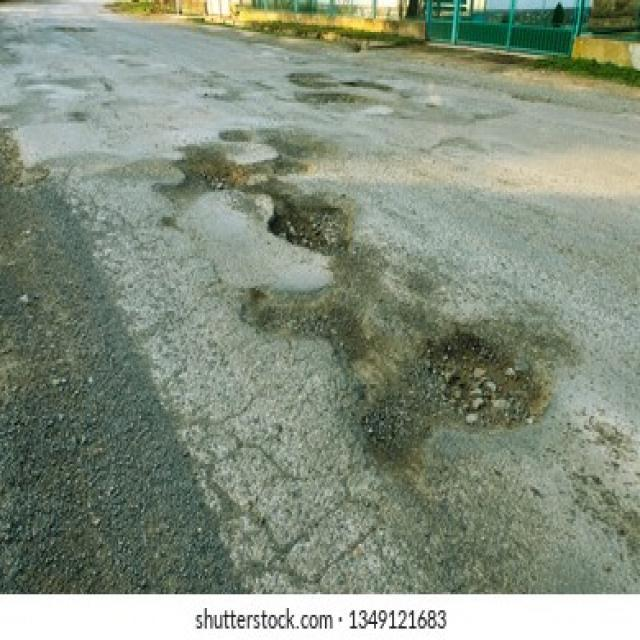Pothole: (354, 322, 550, 482), (238, 276, 382, 372), (156, 146, 238, 222), (264, 194, 353, 258), (238, 153, 315, 194), (258, 125, 334, 154), (294, 91, 364, 108), (344, 78, 394, 94), (218, 128, 250, 144)
